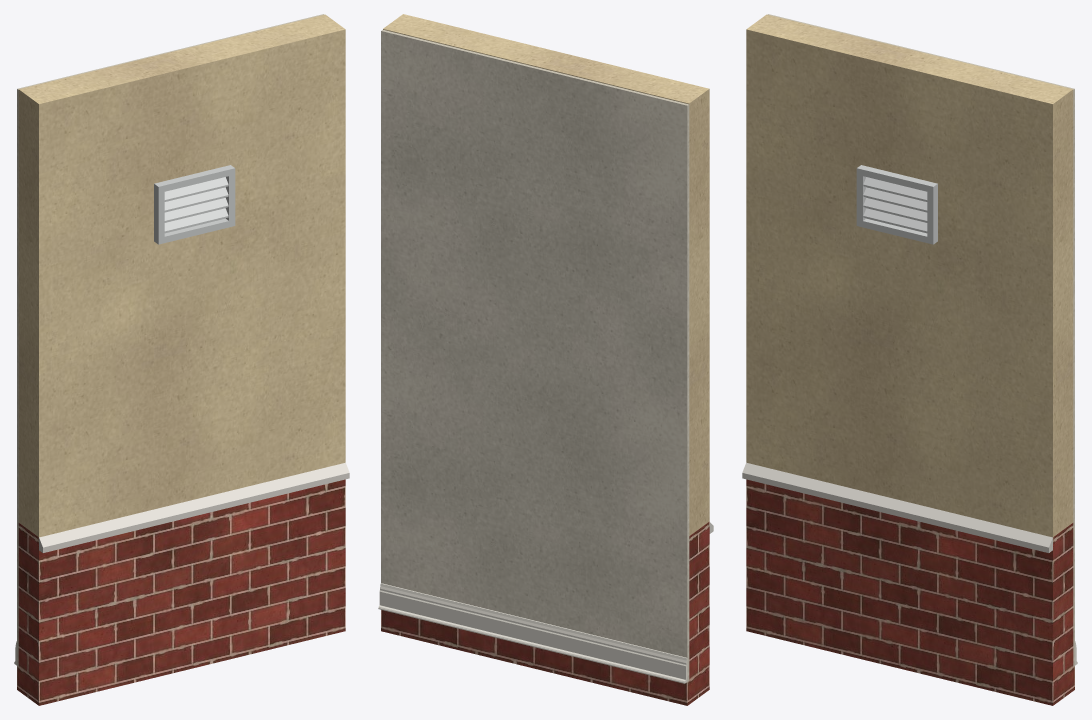
Rendered from w_vent.glb.
3 views of the same model, side by side, from view 1: azimuth 30°, elevation 25°; view 2: azimuth 150°, elevation 25°; view 3: azimuth 330°, elevation 25° (orthographic).
Visible parts, largest first — view 1: w_vent_render, w_vent_brick, w_vent_cill, w_vent_unit, w_vent_plaster; view 2: w_vent_plaster, w_vent_render, w_vent_brick, molduras; view 3: w_vent_render, w_vent_brick, w_vent_cill, w_vent_unit, w_vent_plaster.
Boxes of the visible parts, left/top/right/bottom form: w_vent_render: left=18, top=14, right=345, bottom=537; w_vent_brick: left=17, top=479, right=345, bottom=705; w_vent_cill: left=39, top=462, right=349, bottom=552; w_vent_unit: left=154, top=165, right=235, bottom=244; w_vent_plaster: left=17, top=14, right=323, bottom=666; w_vent_plaster: left=381, top=30, right=689, bottom=681; w_vent_render: left=383, top=14, right=709, bottom=535; w_vent_brick: left=381, top=521, right=709, bottom=705; molduras: left=378, top=583, right=687, bottom=683; w_vent_render: left=746, top=14, right=1073, bottom=537; w_vent_brick: left=746, top=479, right=1074, bottom=705; w_vent_cill: left=742, top=462, right=1052, bottom=552; w_vent_unit: left=856, top=165, right=937, bottom=244; w_vent_plaster: left=768, top=14, right=1074, bottom=666.
Size of the model in its own units: 2 by 3.75 by 0.33.
Materials: 6 (3 with a texture image).
